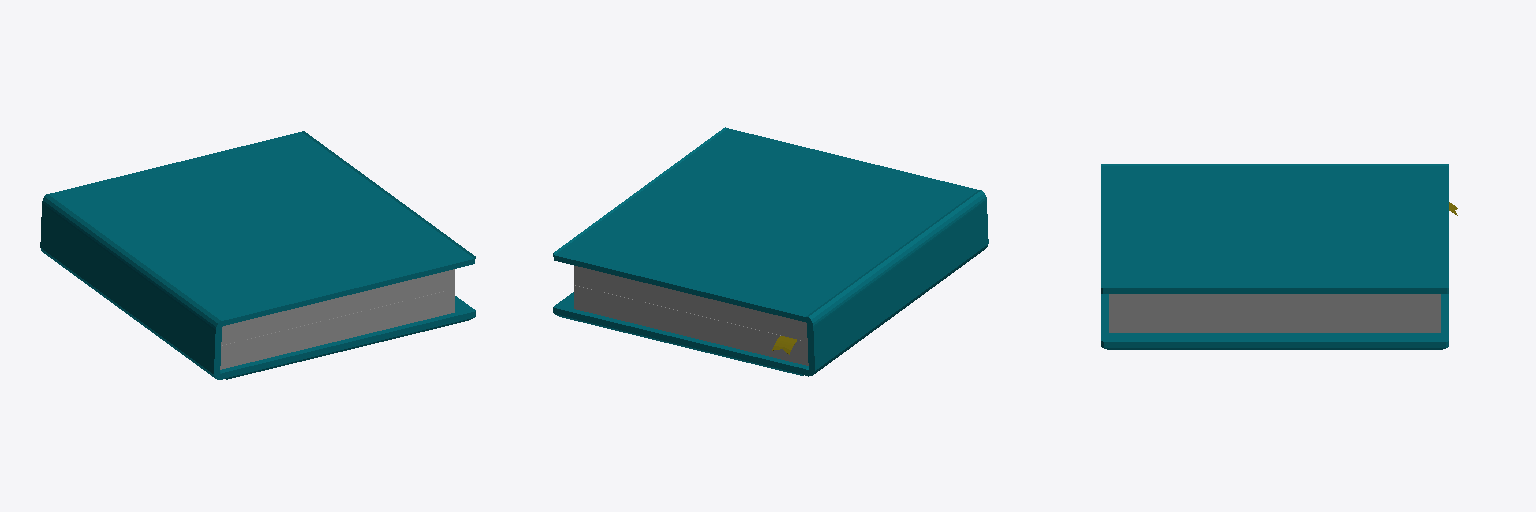
File: book4.obj
3 views of the same model, side by side, from view 1: azimuth 30°, elevation 25°; view 2: azimuth 150°, elevation 25°; view 3: azimuth 270°, elevation 25° (orthographic).
Parts seen in each view (by area): view 1: Mesh2; view 2: Mesh2; view 3: Mesh2.
Boxes of the visible parts, box(x1,y1,x2,y2) form: Mesh2: box(40, 131, 475, 379); Mesh2: box(553, 127, 988, 376); Mesh2: box(1101, 164, 1457, 349).
Size of the model in its own units: 8.75 by 2.05 by 10.29.